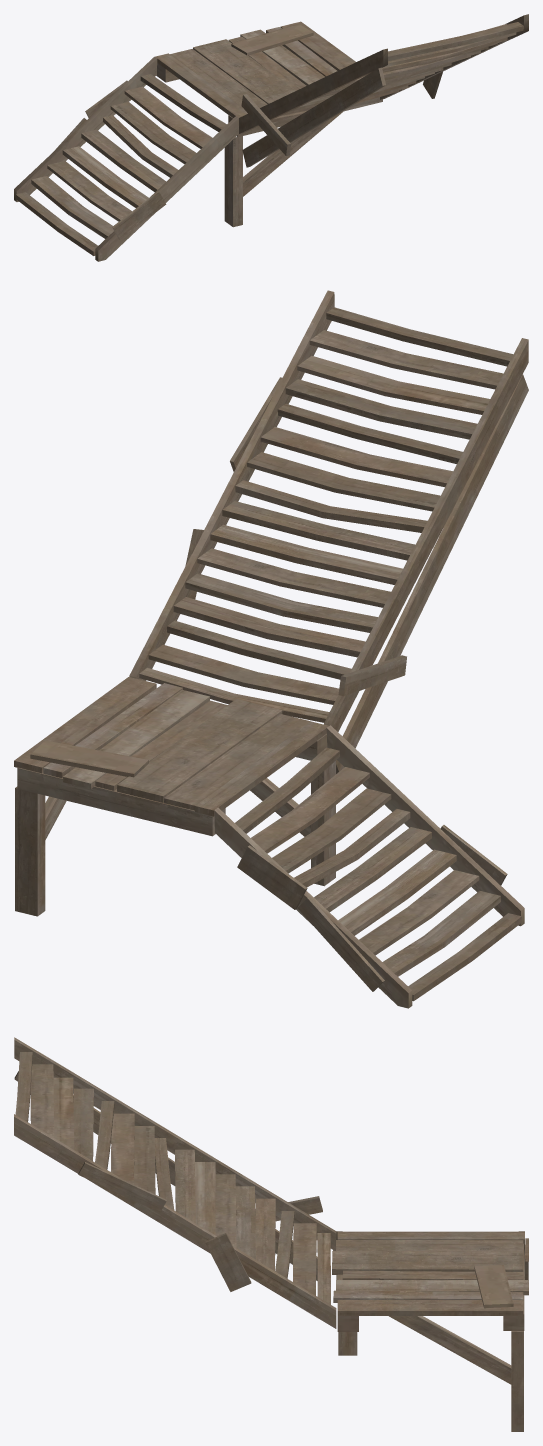
3 renders of one model, top to bottom at view 1: azimuth 30°, elevation 25°; view 2: azimuth 150°, elevation 25°; view 3: azimuth 270°, elevation 25°, orthographic. The views are drawn at different scales.
Parts seen in each view (by area): view 1: body0_model0_lod0_mesh0; view 2: body0_model0_lod0_mesh0; view 3: body0_model0_lod0_mesh0.
Boxes of the visible parts, bbox=[...] form: body0_model0_lod0_mesh0: bbox=[14, 14, 528, 261]; body0_model0_lod0_mesh0: bbox=[14, 290, 528, 1008]; body0_model0_lod0_mesh0: bbox=[14, 1037, 528, 1431].
Bounding box in the file's own units: 223 × 208 × 306.
1 material, 1 textured.
